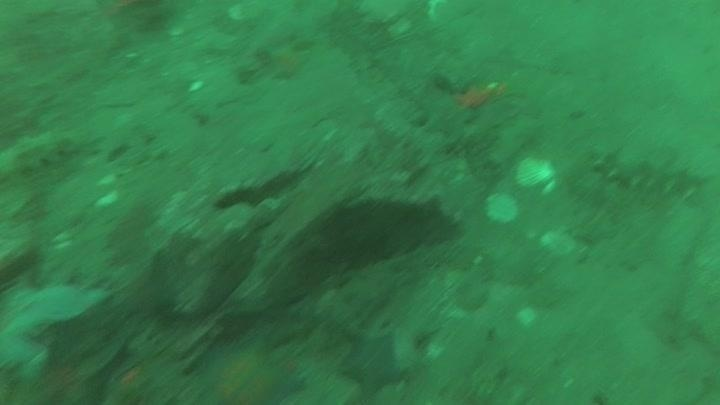holothurian: (587, 140, 713, 203), (1, 125, 89, 177)
scallop: (512, 153, 559, 194), (480, 189, 521, 233)
starfish: (193, 330, 306, 405), (337, 327, 409, 401), (98, 341, 176, 405), (261, 36, 313, 82), (424, 94, 480, 135)
